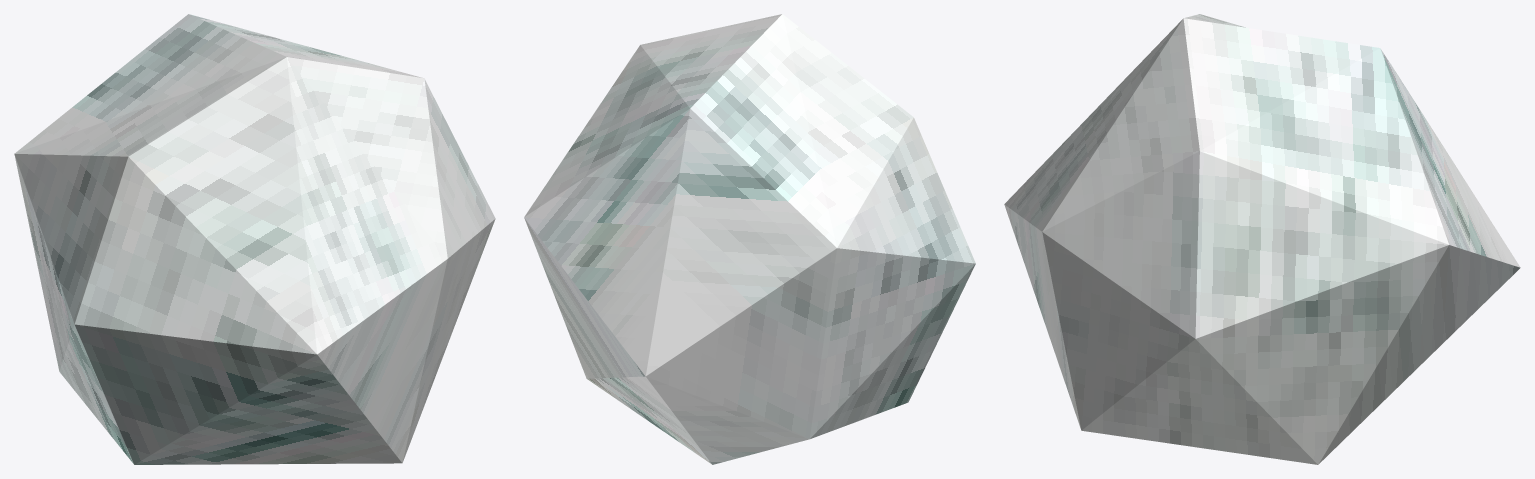
The model's file is items__snowball.glb.
3 views of the same model, side by side, from view 1: azimuth 30°, elevation 25°; view 2: azimuth 150°, elevation 25°; view 3: azimuth 270°, elevation 25° (orthographic). The views are drawn at different scales.
Parts seen in each view (by area): view 1: col-1; view 2: col-1; view 3: col-1.
Boxes of the visible parts, <box> form: col-1: <box>14,14,495,464</box>; col-1: <box>524,14,975,464</box>; col-1: <box>1004,14,1520,464</box>.
Bounding box in the file's own units: 5.04 × 4.94 × 5.34.
Materials: 1 (1 with a texture image).
